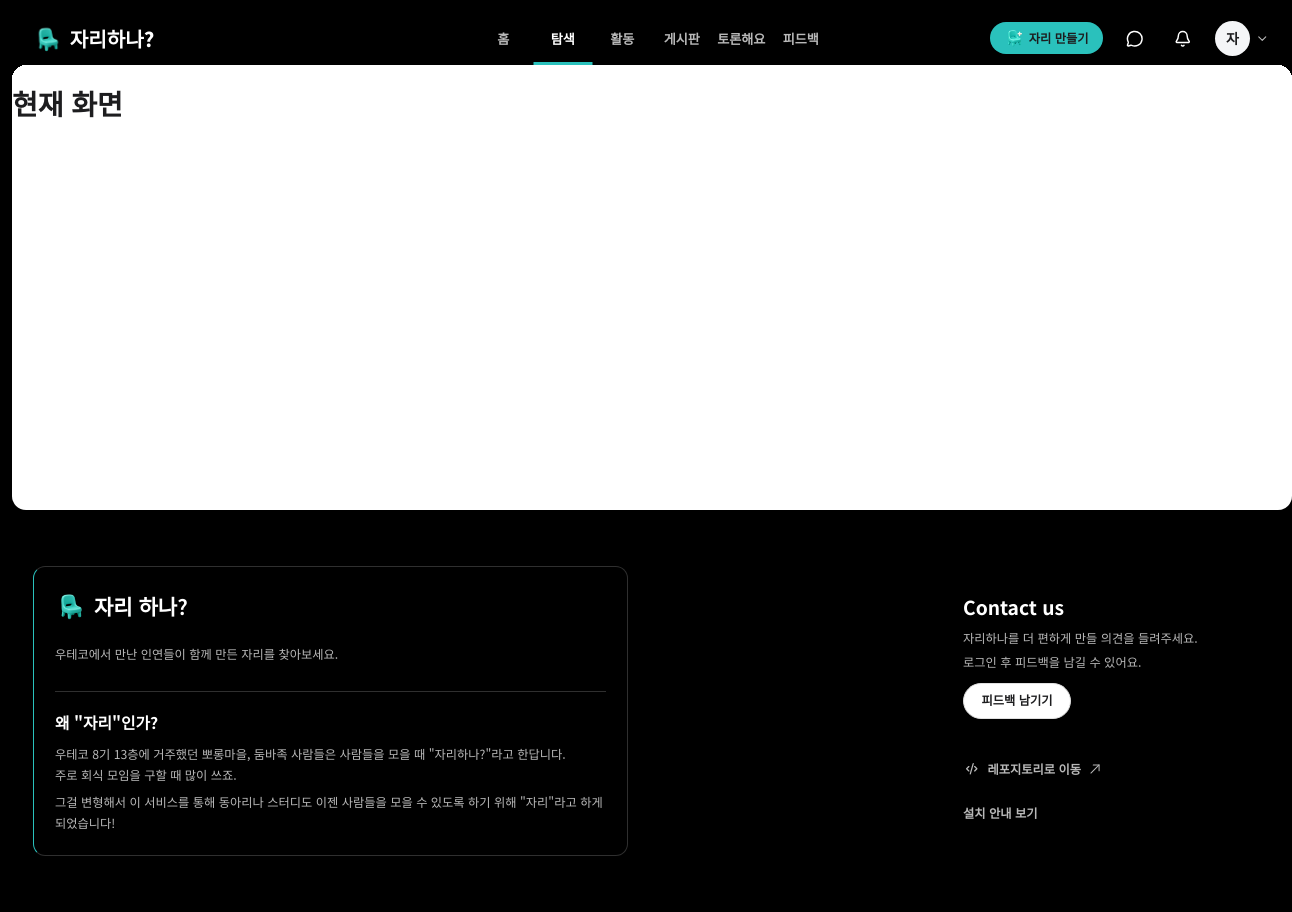
returns focus to the profile button when Escape closes the menu
The width and height of the screenshot is (1292, 912).
Click the button named "프로필 메뉴" at [1241, 38], box [1212,16,1271,60]
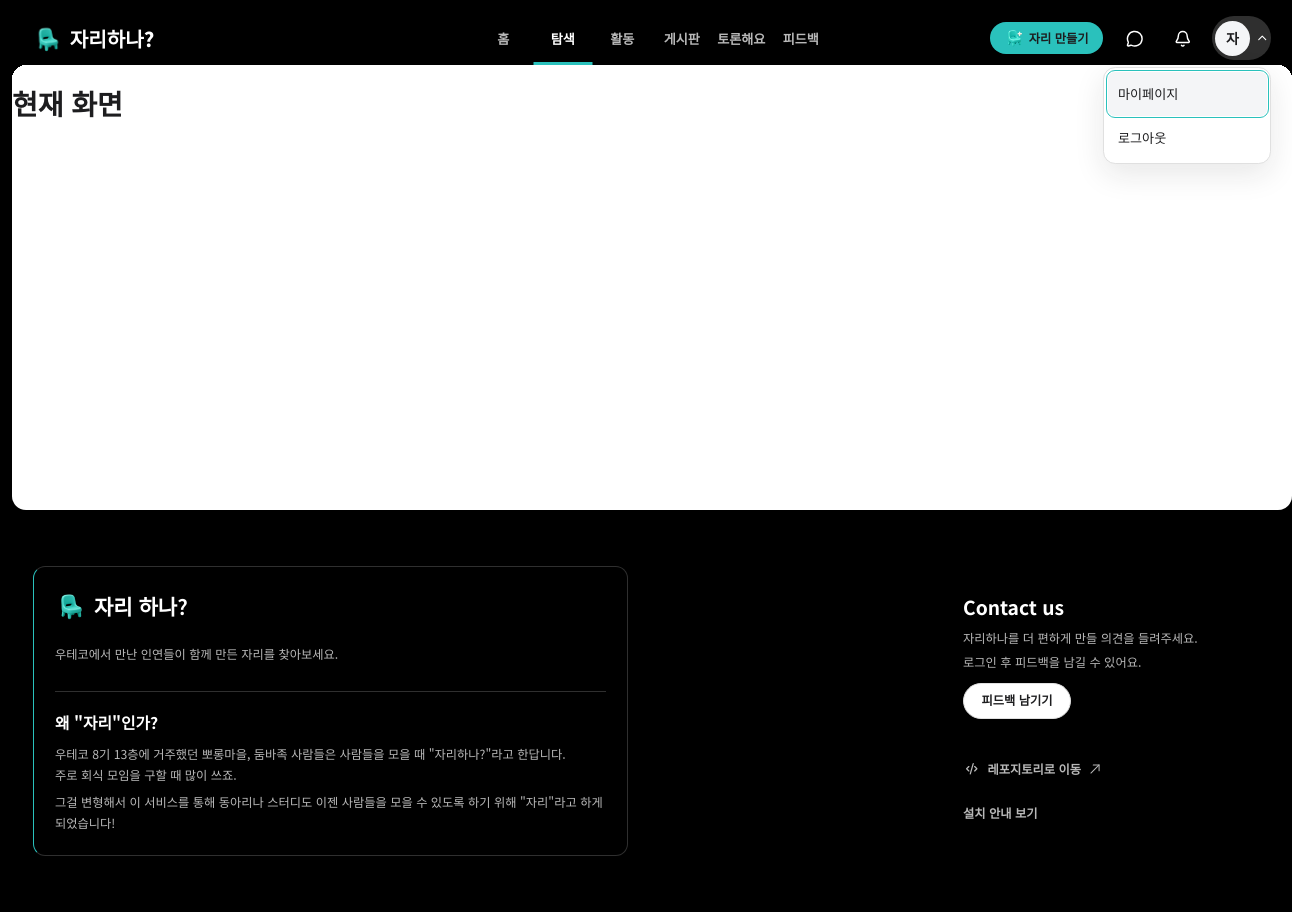
Press Escape
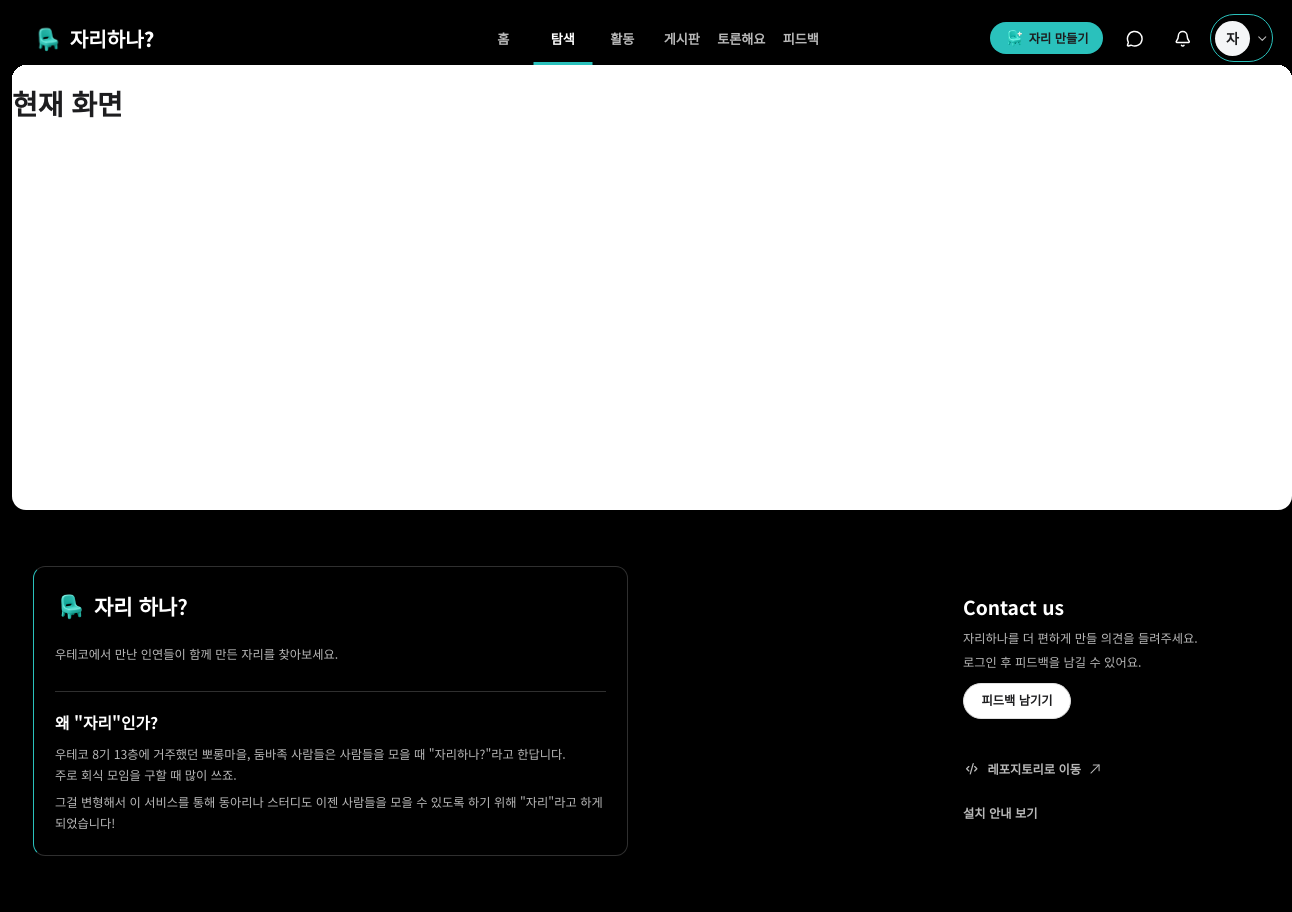
Now the button named "프로필 메뉴" is collapsed, box [1212,16,1271,60]
